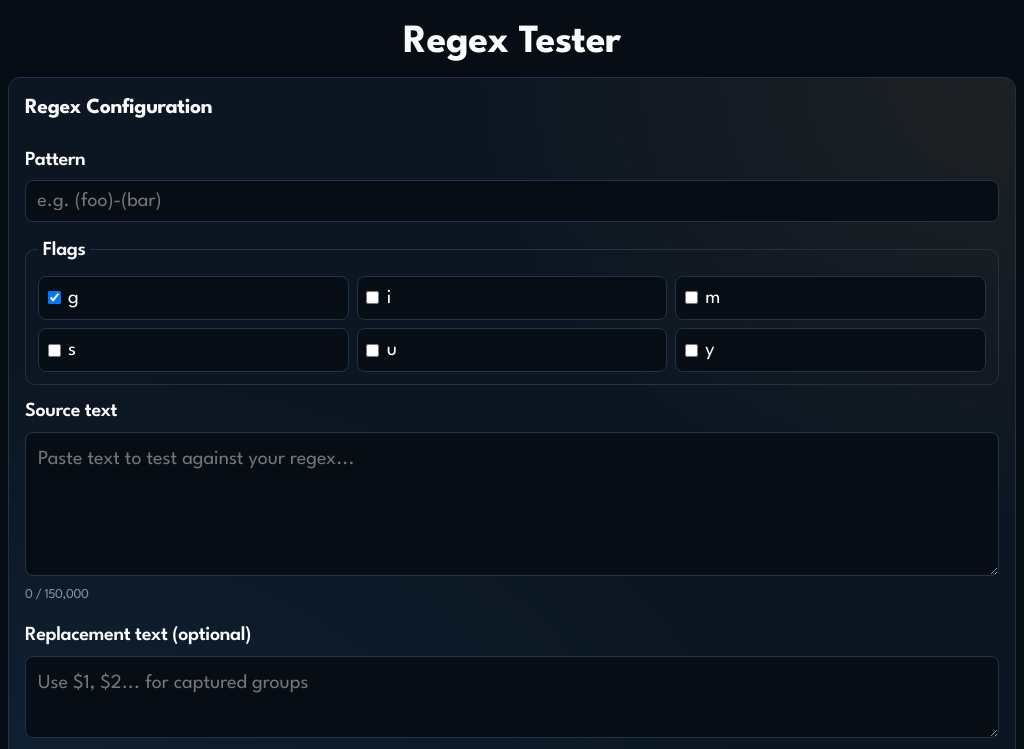
Scenario: Tool migrations › RegexTester › shows regex errors, match counts, and replacement preview in the UI
The image size is (1024, 749).
Type "([a-z" into the field labelled "Pattern". click: (512, 201)
box: [25, 180, 999, 222]
Type "abc" into the text box labelled "Source text". click: (512, 504)
box: [25, 432, 999, 576]
(page scrolled)
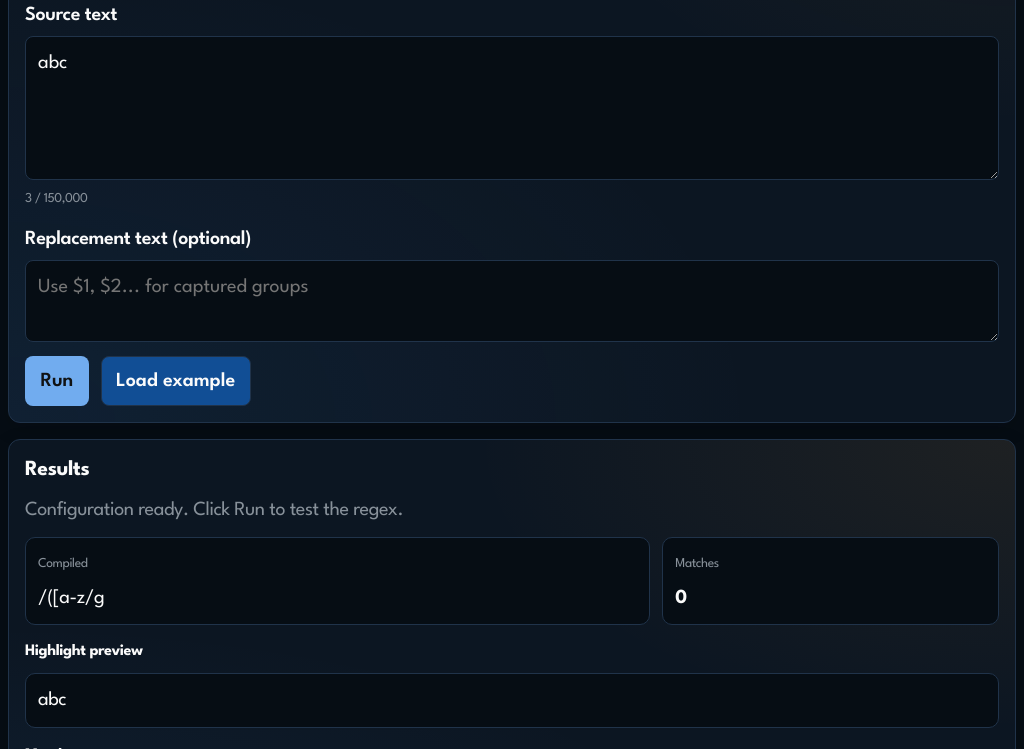
Click the button "Run". click: (57, 381)
box: [25, 356, 89, 406]
(page scrolled)
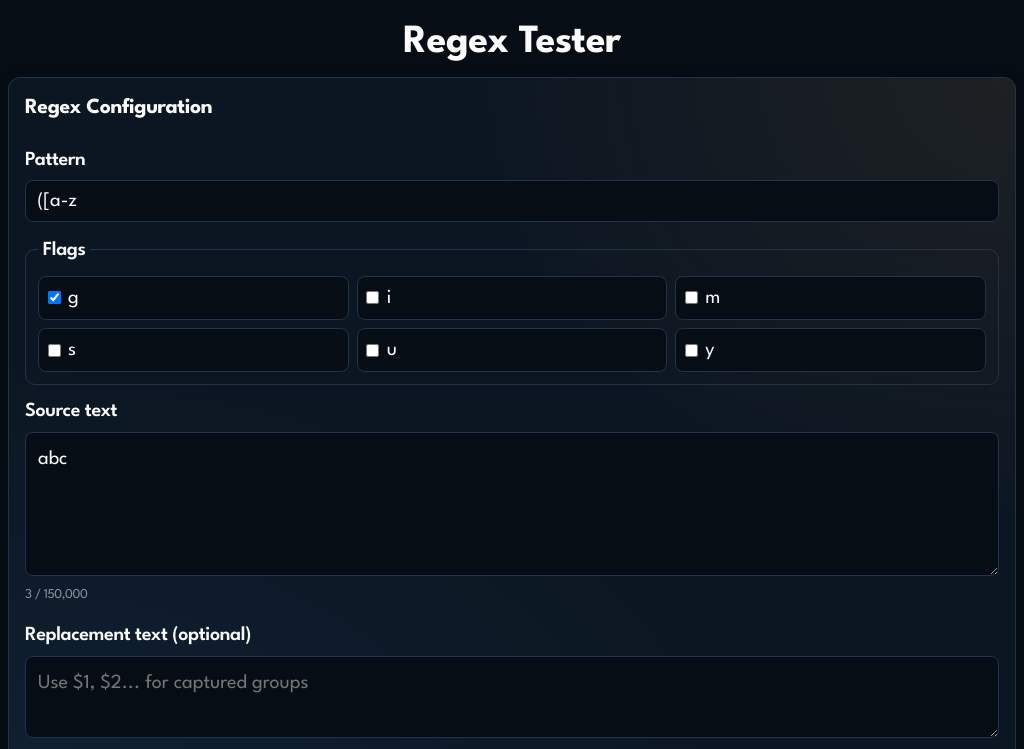
Replace the text in the field labelled "Pattern" with "(foo)-(bar)". click: (512, 201)
box: [25, 180, 999, 222]
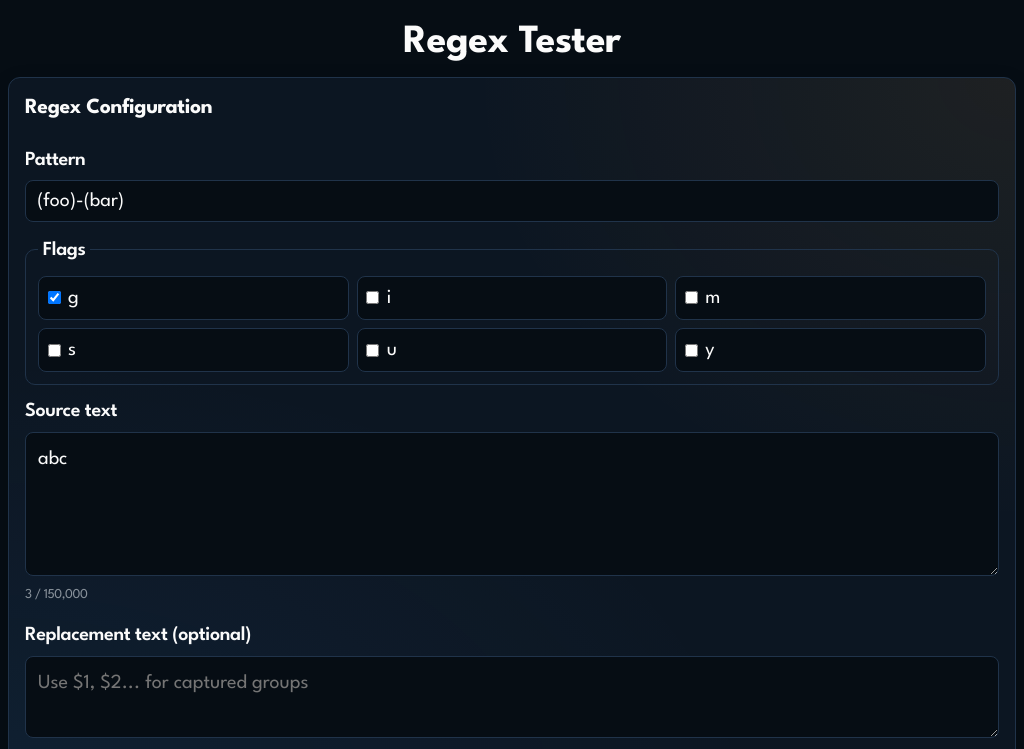
Replace the text in the text box labelled "Source text" with "foo-bar and foo-bar". click: (512, 504)
box: [25, 432, 999, 576]
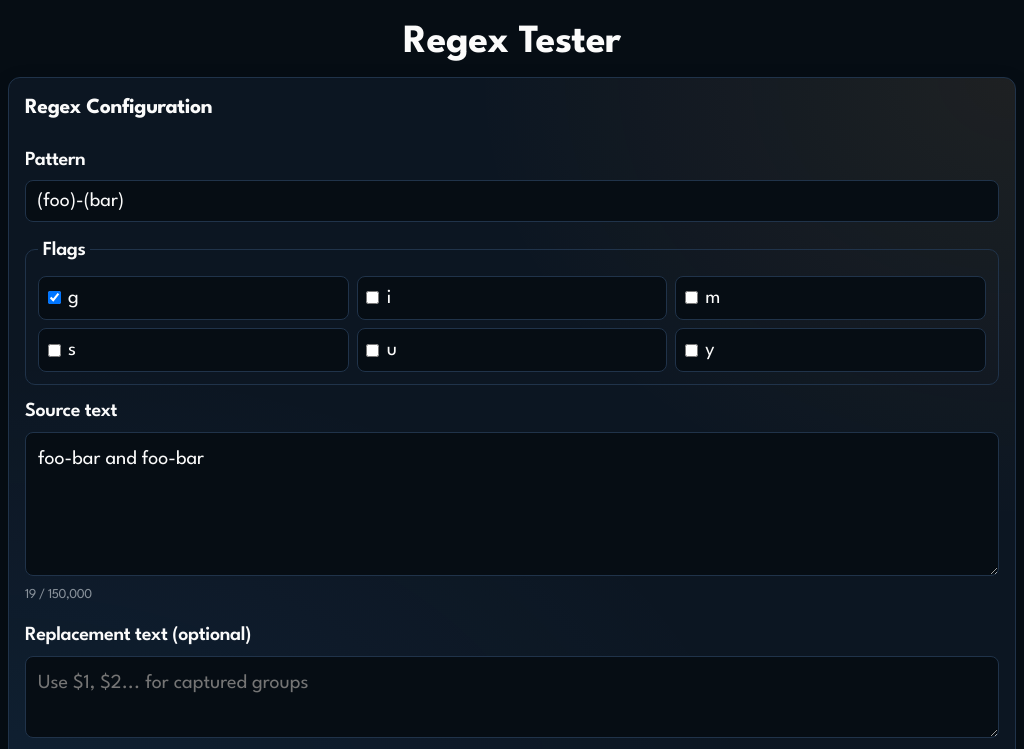
Type "$2:$1" into the text box labelled "Replacement text (optional)". click: (512, 697)
box: [25, 656, 999, 738]
(page scrolled)
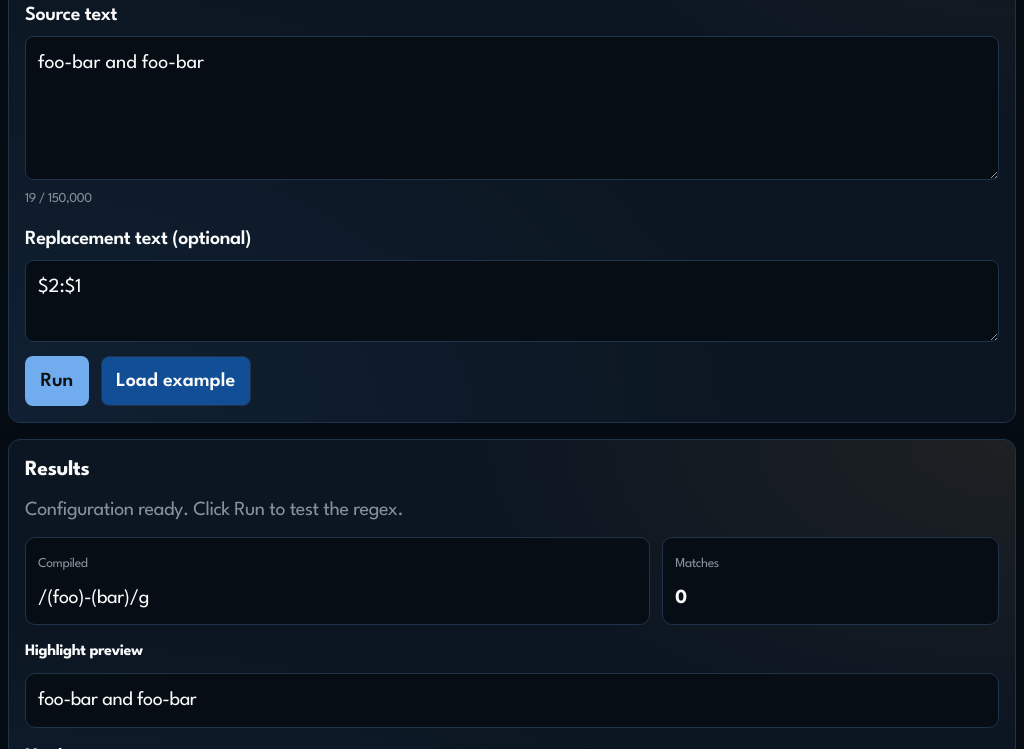
Click the button "Run". click: (57, 381)
box: [25, 356, 89, 406]
(page scrolled)
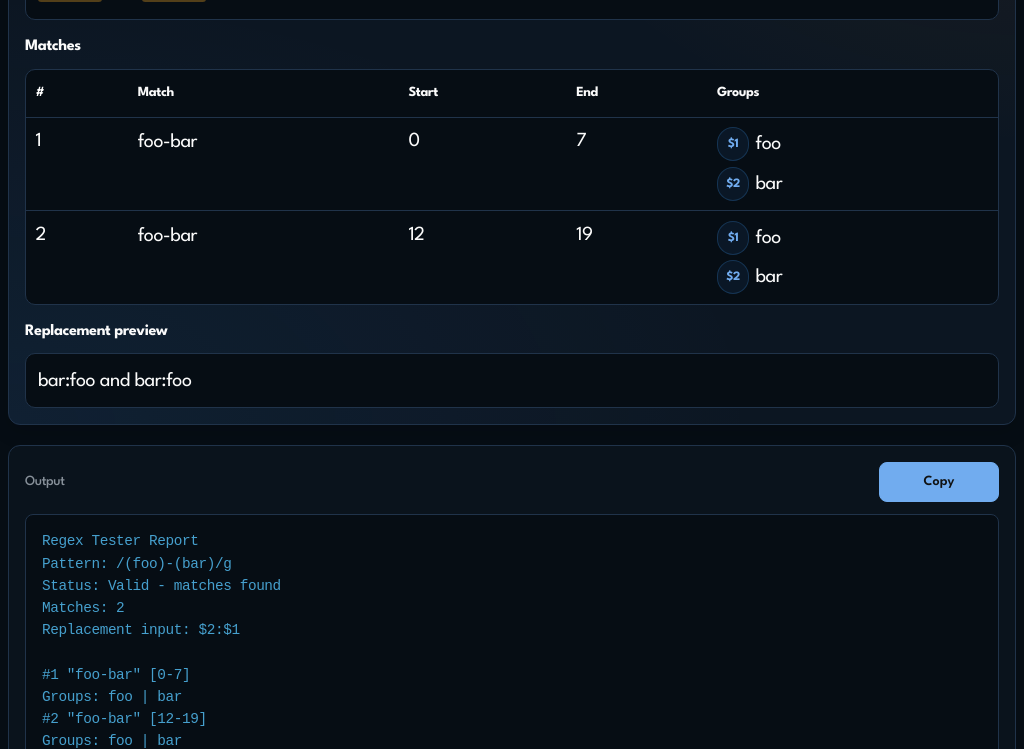
Check: the text "bar:foo and bar:foo" is shown, box [38, 372, 192, 390]
